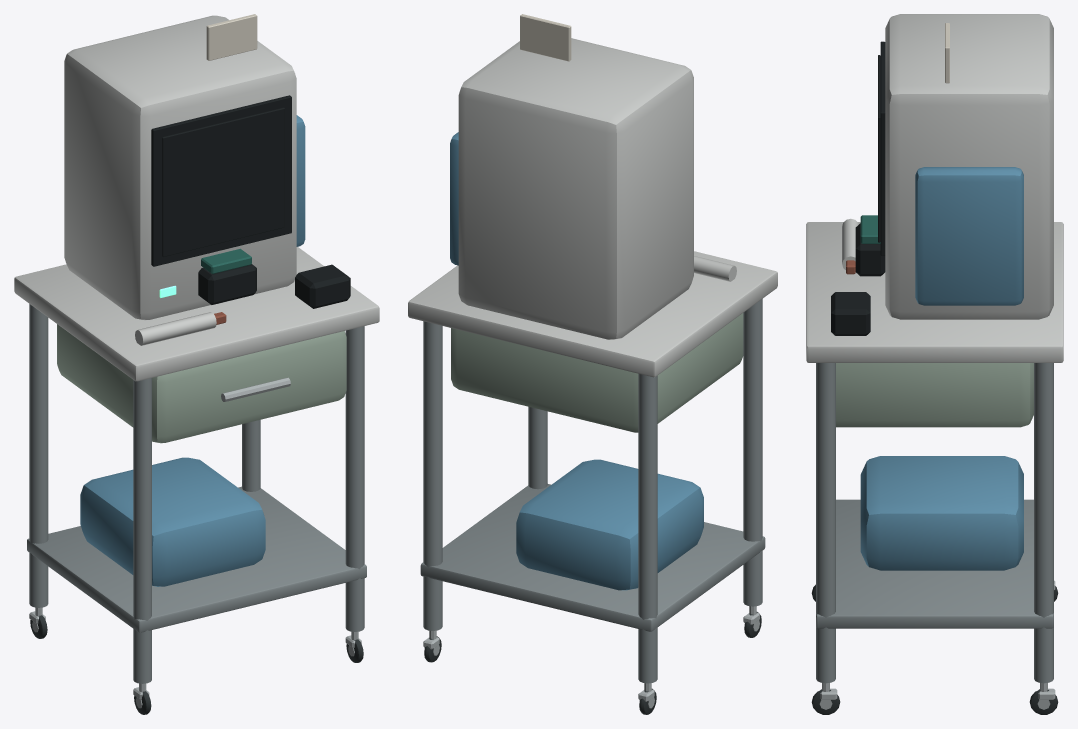
Rendered from blood-gas-analyzer.glb.
The picture shows the model from 3 angles, left to right: view 1: azimuth 30°, elevation 25°; view 2: azimuth 150°, elevation 25°; view 3: azimuth 270°, elevation 25°; orthographic projection. The views are drawn at different scales.
Parts seen in each view (by area): view 1: blood-gas-analyzer; view 2: blood-gas-analyzer; view 3: blood-gas-analyzer.
Boxes of the visible parts, x1,y1,x2,y2 form: blood-gas-analyzer: (14,14,379,714); blood-gas-analyzer: (408,14,777,714); blood-gas-analyzer: (806,14,1063,714).
Bounding box in the file's own units: 0.6 × 1.44 × 0.52.
